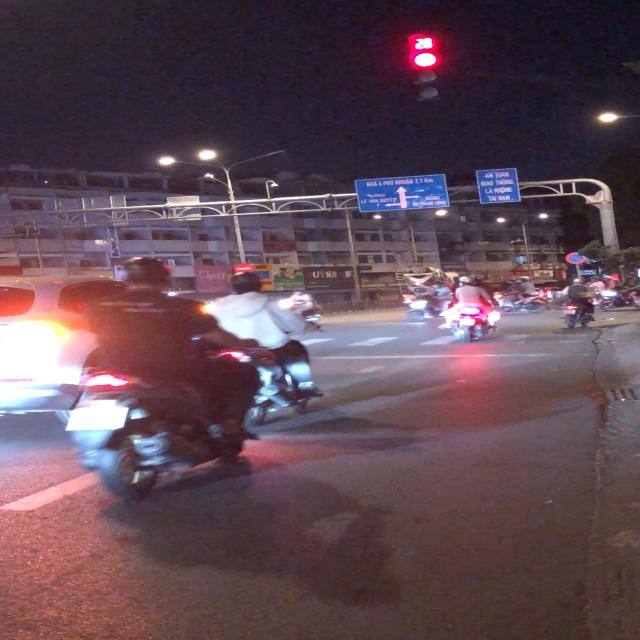Bien bao cam di nguoc chieu: (232, 262, 254, 274)
